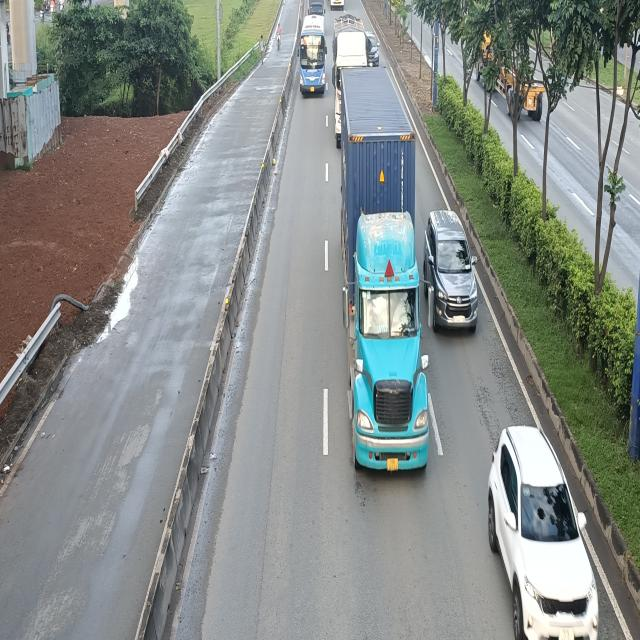car: (489, 420, 602, 636), (422, 210, 478, 337)
coach: (296, 15, 326, 97)
container: (342, 72, 431, 478)
